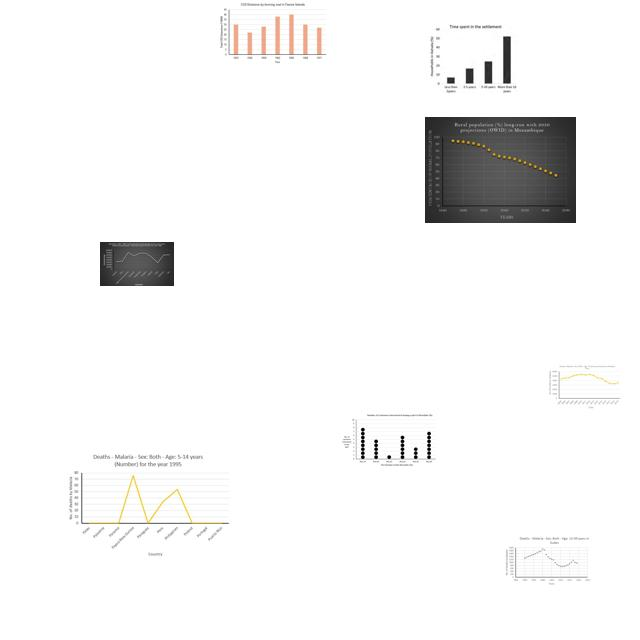Graph: (66, 452, 231, 558), (425, 117, 576, 223), (427, 21, 523, 97), (218, 2, 327, 64), (341, 413, 437, 468), (503, 535, 592, 587), (548, 364, 621, 409), (100, 242, 174, 286)
